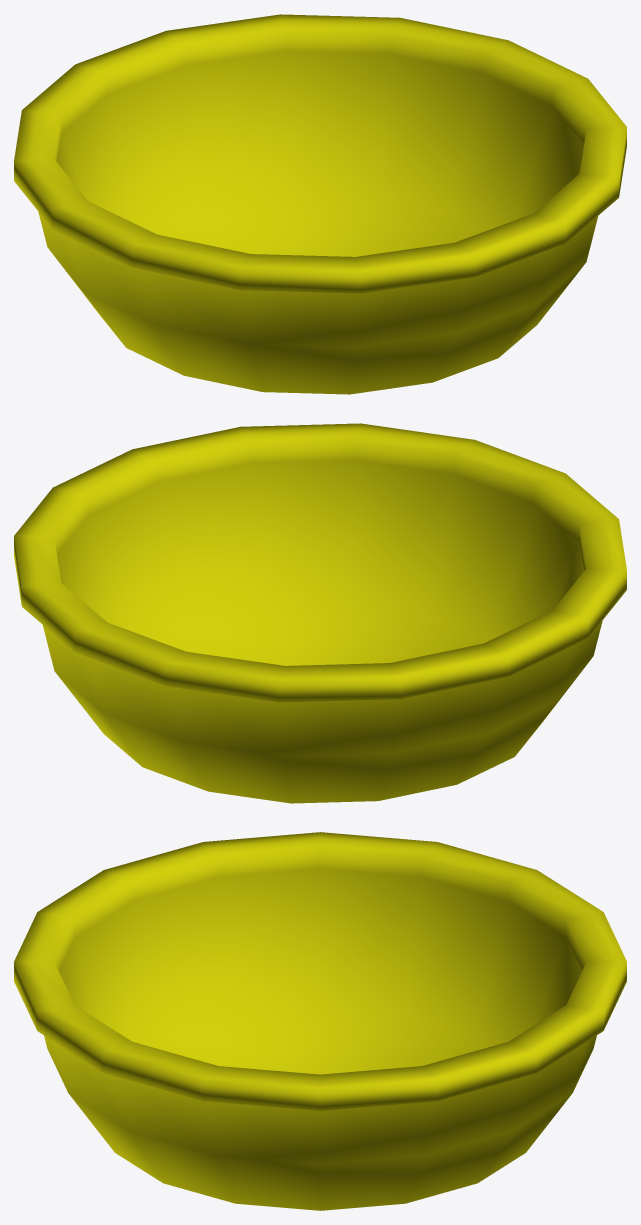
File: Baskom1.fbx
3 renders of one model, top to bottom at view 1: azimuth 30°, elevation 25°; view 2: azimuth 150°, elevation 25°; view 3: azimuth 270°, elevation 25°, orthographic.
Visible parts, largest first — view 1: Baskom1; view 2: Baskom1; view 3: Baskom1.
Boxes of the visible parts, box(x1,y1,x2,y2) form: Baskom1: box(14, 14, 626, 394); Baskom1: box(14, 423, 626, 803); Baskom1: box(14, 832, 626, 1210).
Bounding box in the file's own units: 45.41 × 14.05 × 45.41.
